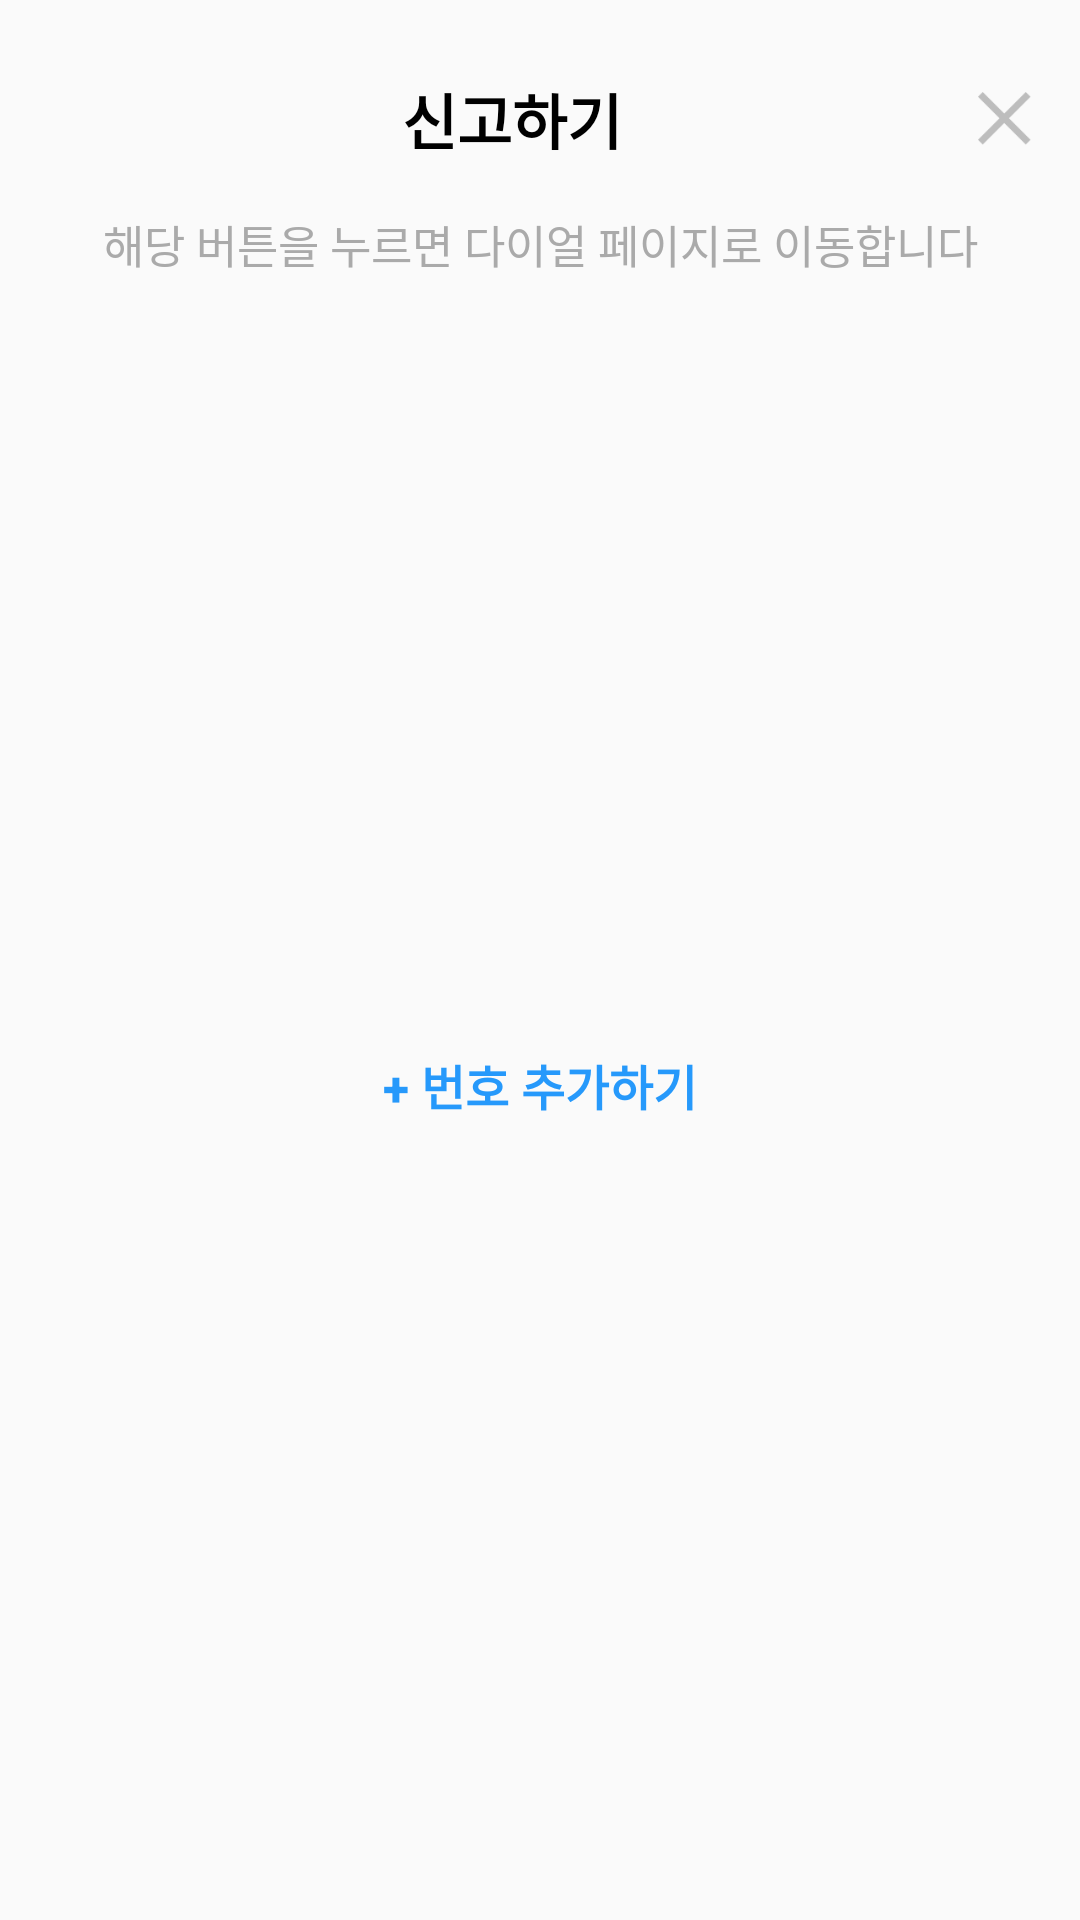

Locate icon controls on the screen. Image size 1080px×1920px, boxes as (x1=x1, y1=y1, x2=x2, y2=y2).
exit: (x1=978, y1=92, x2=1030, y2=144)
